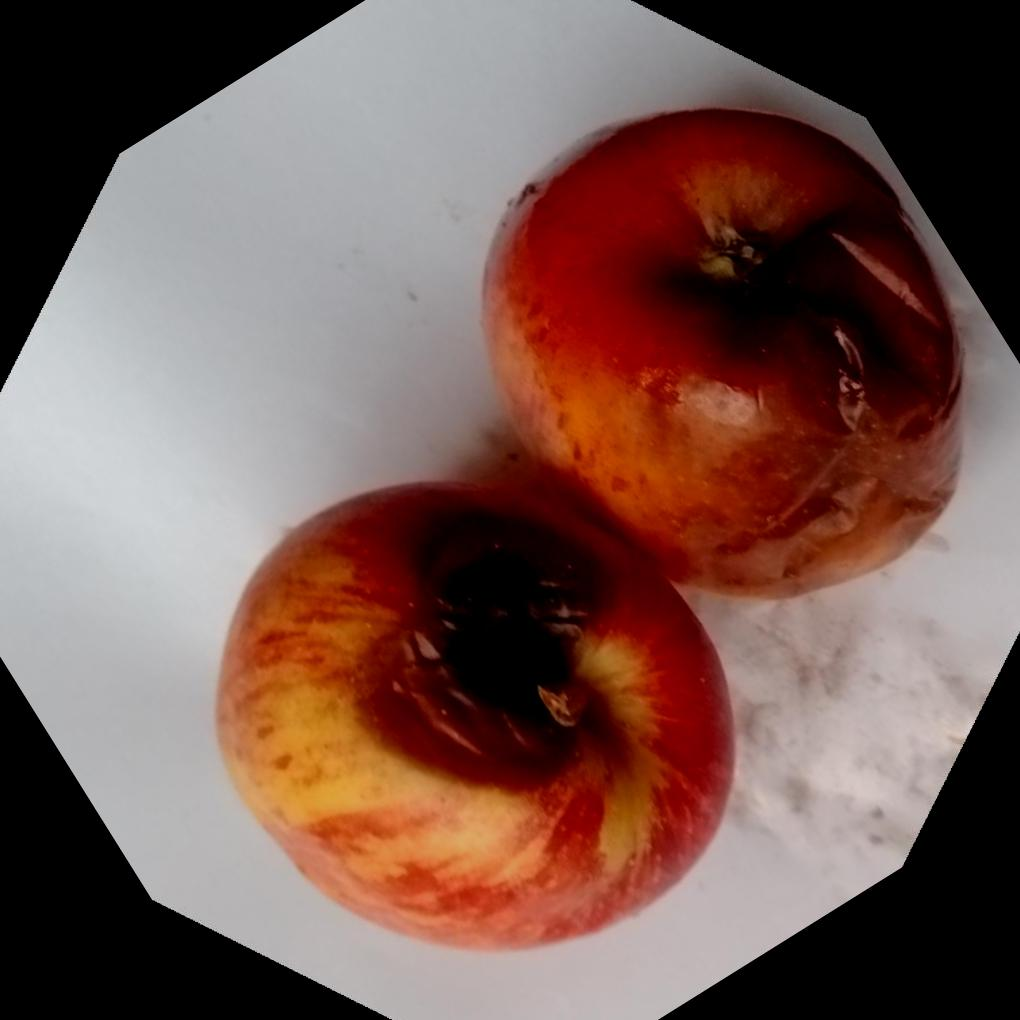FreshOrange: (214, 107, 968, 957)
